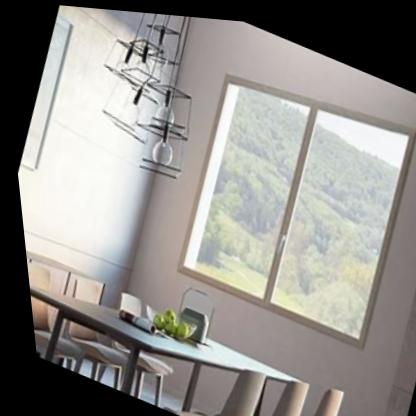Dining Table: (21, 258, 339, 416)
Window: (170, 68, 415, 347)
